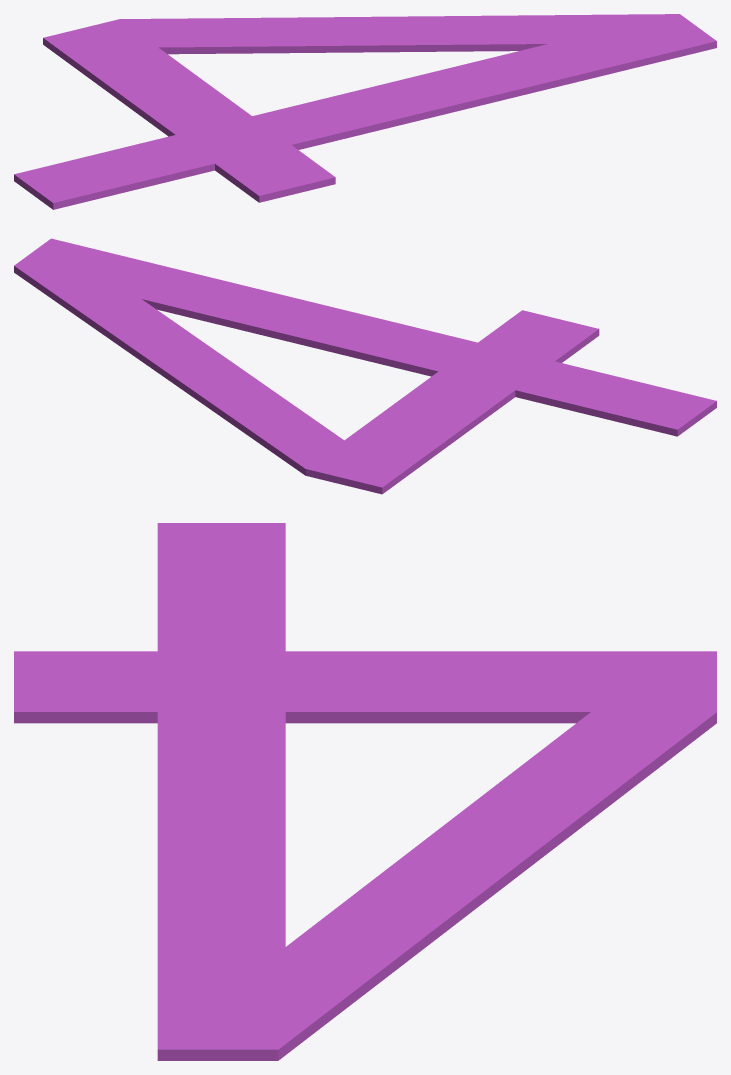
File: IMU_3.gltf
3 views of the same model, one above another, from view 1: azimuth 30°, elevation 25°; view 2: azimuth 150°, elevation 25°; view 3: azimuth 270°, elevation 25° (orthographic). The views are drawn at different scales.
Visible parts, largest first — view 1: mesh7514, mesh7520, mesh7510, mesh7524, mesh7516, mesh7522, mesh7523; view 2: mesh7514, mesh7518, mesh7511, mesh7515, mesh7516, mesh7517; view 3: mesh7514, mesh7518, mesh7512, mesh7521, mesh7519.
Part boxes in pixels (x1,y1,x2,y2): mesh7514: (14, 14, 716, 202); mesh7520: (292, 41, 716, 149); mesh7510: (158, 44, 547, 54); mesh7524: (53, 163, 214, 209); mesh7516: (43, 38, 175, 136); mesh7522: (259, 177, 335, 202); mesh7523: (215, 164, 259, 202); mesh7514: (14, 238, 716, 487); mesh7518: (14, 266, 305, 475); mesh7511: (142, 299, 438, 376); mesh7515: (515, 390, 677, 436); mesh7516: (382, 390, 515, 493); mesh7517: (305, 469, 382, 494); mesh7514: (14, 523, 716, 1049); mesh7518: (278, 712, 716, 1060); mesh7512: (285, 712, 590, 723); mesh7521: (14, 712, 157, 723); mesh7519: (157, 1049, 278, 1060).
Bounding box in the file's own units: 0.00101 × 1e-05 × 0.000571.
